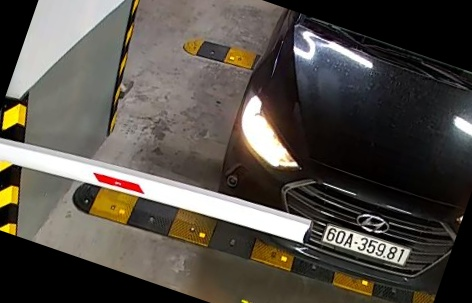plate: (324, 224, 414, 272)
